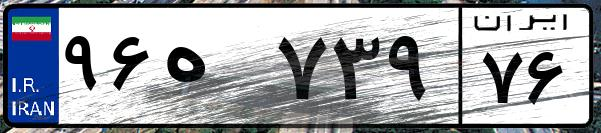3: (330, 28, 385, 110)
6: (525, 38, 570, 115), (110, 28, 158, 98)
7: (270, 28, 330, 110), (475, 38, 525, 113)
9: (385, 28, 445, 110), (57, 26, 110, 100)
ه: (158, 20, 270, 120)
